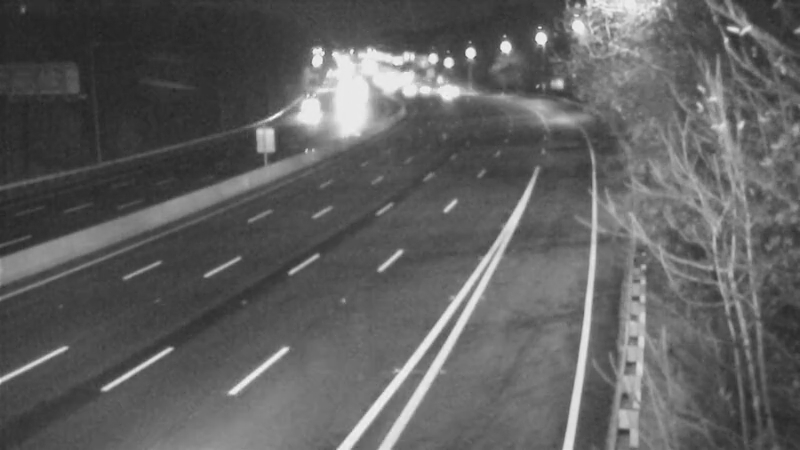vehicle: (428, 58, 478, 108), (279, 81, 329, 131)
